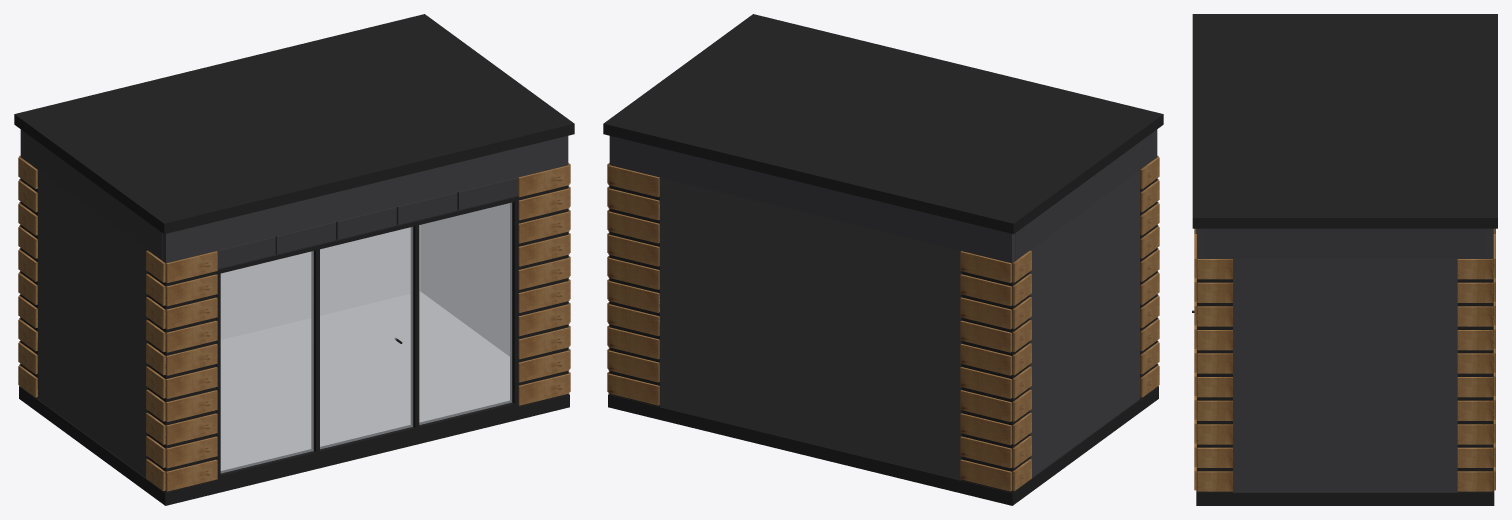
Rendered from container_box.glb.
3 renders of one model, left to right at view 1: azimuth 30°, elevation 25°; view 2: azimuth 150°, elevation 25°; view 3: azimuth 270°, elevation 25°, orthographic.
Visible parts, largest first — view 1: Roof, Floor, Wall_Left, Glass_1, Glass_3, Glass_2, Top_F, Int_Back, Int_Right, Base, Top_L, Fr_Bot (+33 smaller); view 2: Wall_Back, Roof, Wall_Left, Top_B, Base, Top_L, CBR_backF, CBL_backF, CBR_pF_2, CBL_pF_6, CBL_pF_0, CBL_pF_1 (+18 smaller); view 3: Roof, Wall_Right, Top_R, Base, CBR_backS, CFR_backS, CBR_pS_0, CBR_pS_2, CBR_pS_5, CBR_pS_7, CBR_pS_1, CBR_pS_3 (+14 smaller).
Part boxes in pixels (x1,y1,x2,y2): Roof: [14, 14, 574, 234]; Floor: [221, 291, 509, 470]; Wall_Left: [21, 130, 165, 477]; Glass_1: [220, 251, 313, 473]; Glass_3: [419, 202, 511, 424]; Glass_2: [320, 227, 412, 449]; Top_F: [162, 136, 568, 263]; Int_Back: [221, 225, 419, 339]; Int_Right: [420, 203, 509, 356]; Base: [19, 386, 569, 505]; Top_L: [23, 132, 162, 260]; Fr_Bot: [216, 401, 518, 480]; Wall_Back: [660, 177, 1015, 480]; Roof: [603, 14, 1163, 234]; Wall_Left: [1012, 130, 1155, 477]; Top_B: [609, 136, 1011, 263]; Base: [608, 386, 1158, 505]; Top_L: [1015, 132, 1154, 260]; CBR_backF: [609, 178, 659, 406]; CBL_backF: [961, 271, 1011, 492]; CBR_pF_2: [608, 327, 659, 359]; CBL_pF_6: [960, 320, 1011, 352]; CBL_pF_0: [960, 459, 1011, 491]; CBL_pF_1: [960, 436, 1011, 468]; Roof: [1192, 14, 1497, 228]; Wall_Right: [1197, 228, 1492, 492]; Top_R: [1204, 228, 1485, 258]; Base: [1196, 490, 1494, 505]; CBR_backS: [1457, 279, 1493, 492]; CFR_backS: [1197, 279, 1232, 492]; CBR_pS_0: [1457, 471, 1493, 491]; CBR_pS_2: [1457, 424, 1493, 444]; CBR_pS_5: [1457, 353, 1493, 373]; CBR_pS_7: [1457, 306, 1493, 326]; CBR_pS_1: [1457, 447, 1493, 467]; CBR_pS_3: [1457, 400, 1493, 420].
Bounding box in the file's own units: 4.08 × 2.7 × 2.59.
Materials: 8 (1 with a texture image).
